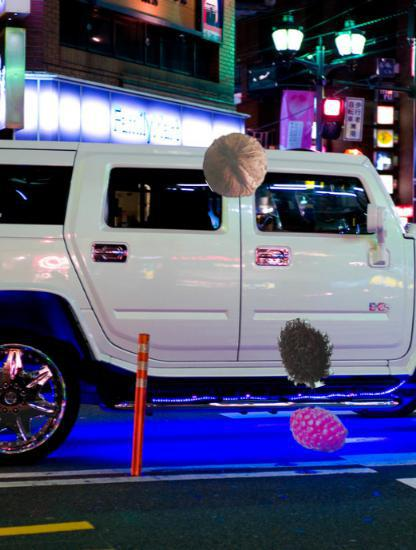Rambutan: (271, 317, 343, 389)
Raspberry: (288, 398, 350, 460)
Walnut: (202, 132, 271, 201)
